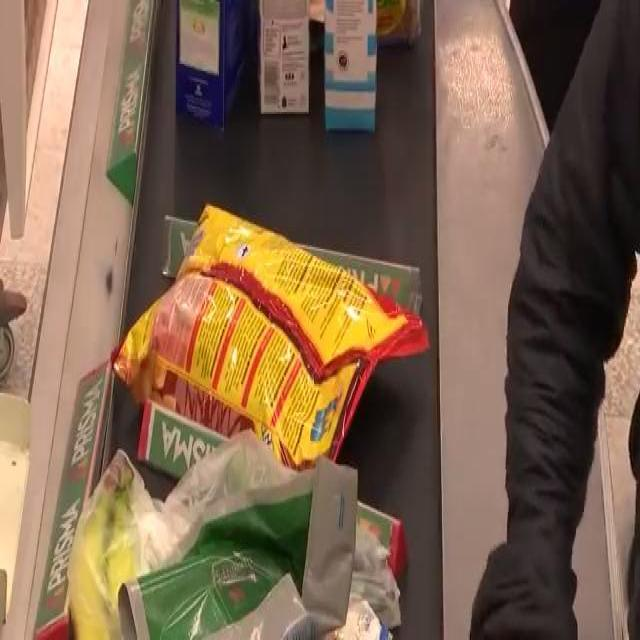food-box: (146, 214, 342, 452), (177, 0, 231, 133), (323, 0, 379, 126), (256, 0, 314, 121)
fruit: (60, 473, 156, 640)
utility-box: (128, 478, 362, 617)
